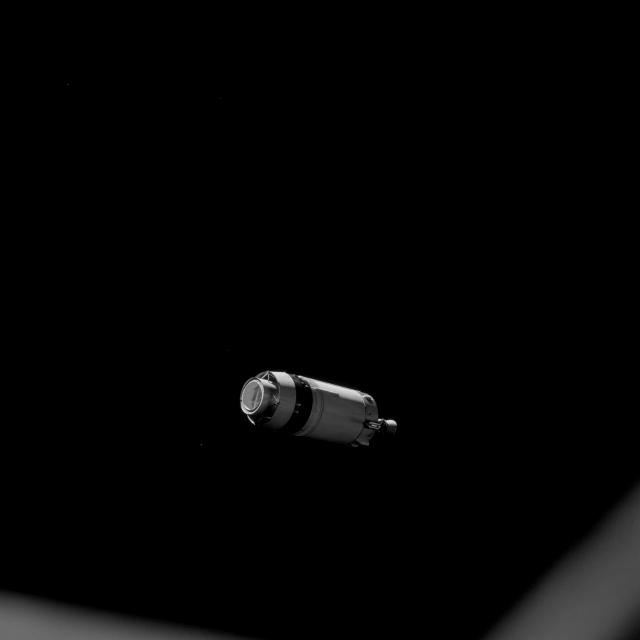medium_debris: (240, 371, 396, 448)
